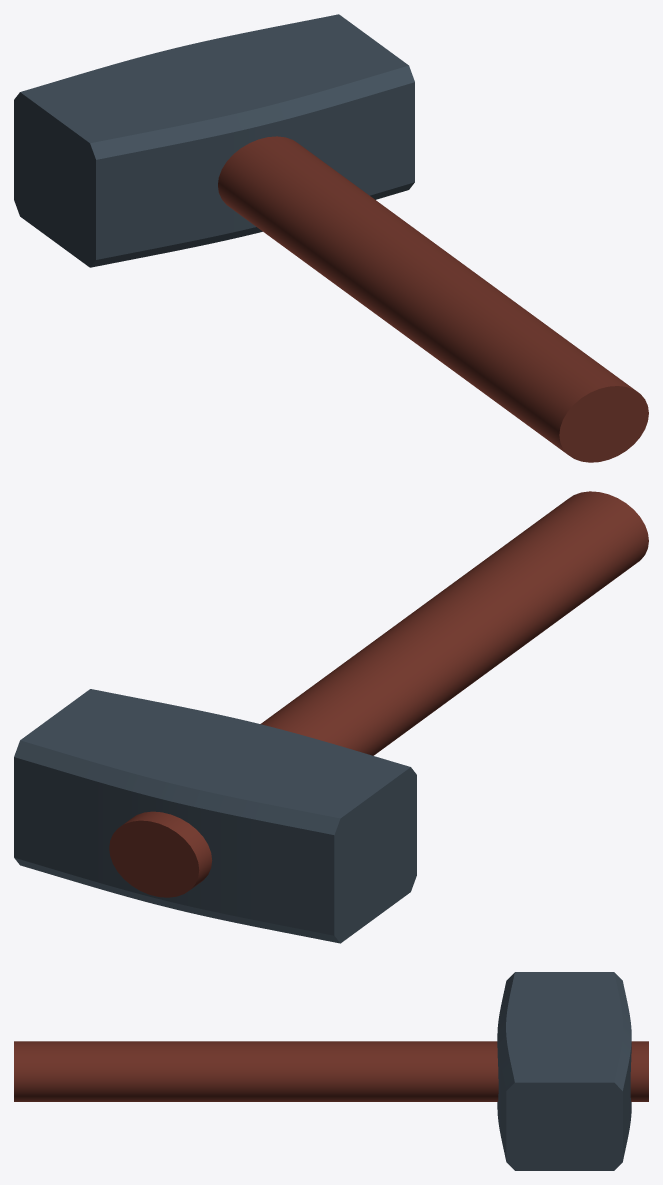
File: Hammer2.FBX
3 views of the same model, one above another, from view 1: azimuth 30°, elevation 25°; view 2: azimuth 150°, elevation 25°; view 3: azimuth 270°, elevation 25° (orthographic). The views are drawn at different scales.
Visible parts, largest first — view 1: Forging Hammer; view 2: Forging Hammer; view 3: Forging Hammer.
Boxes of the visible parts, box(x1,y1,x2,y2) form: Forging Hammer: box(14, 14, 648, 462); Forging Hammer: box(14, 491, 648, 943); Forging Hammer: box(14, 972, 648, 1170).
Size of the model in its own units: 16.53 by 6.16 by 40.17.
